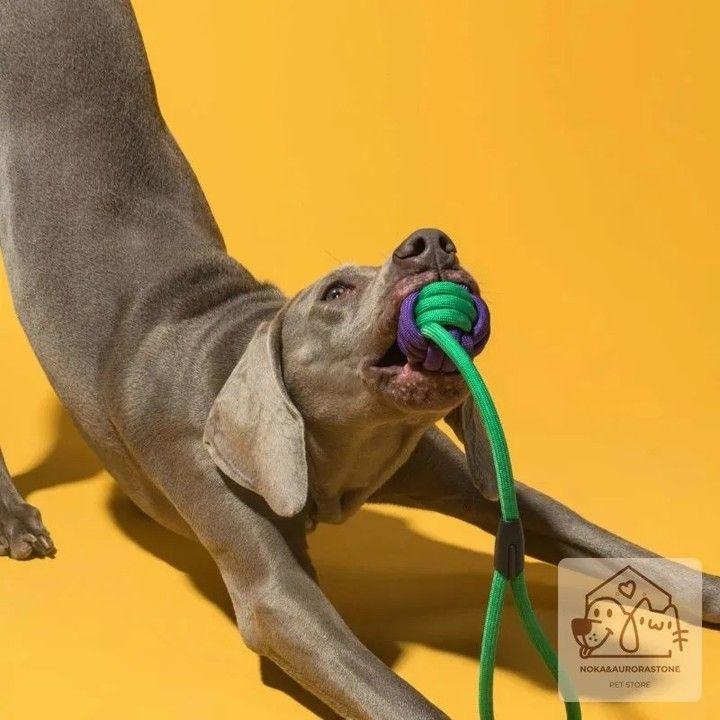adult_dog: (0, 1, 720, 713)
